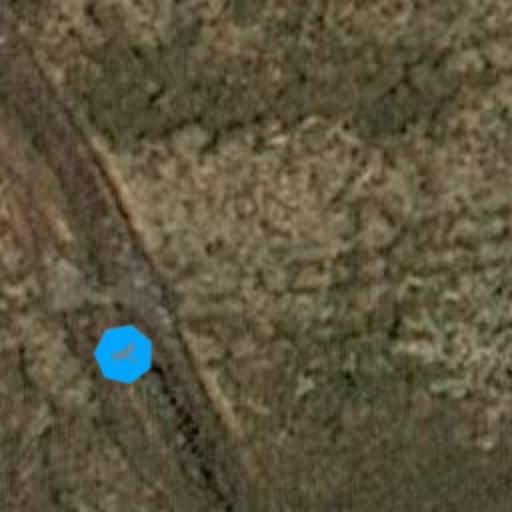heptagon: (88, 318, 160, 390)
